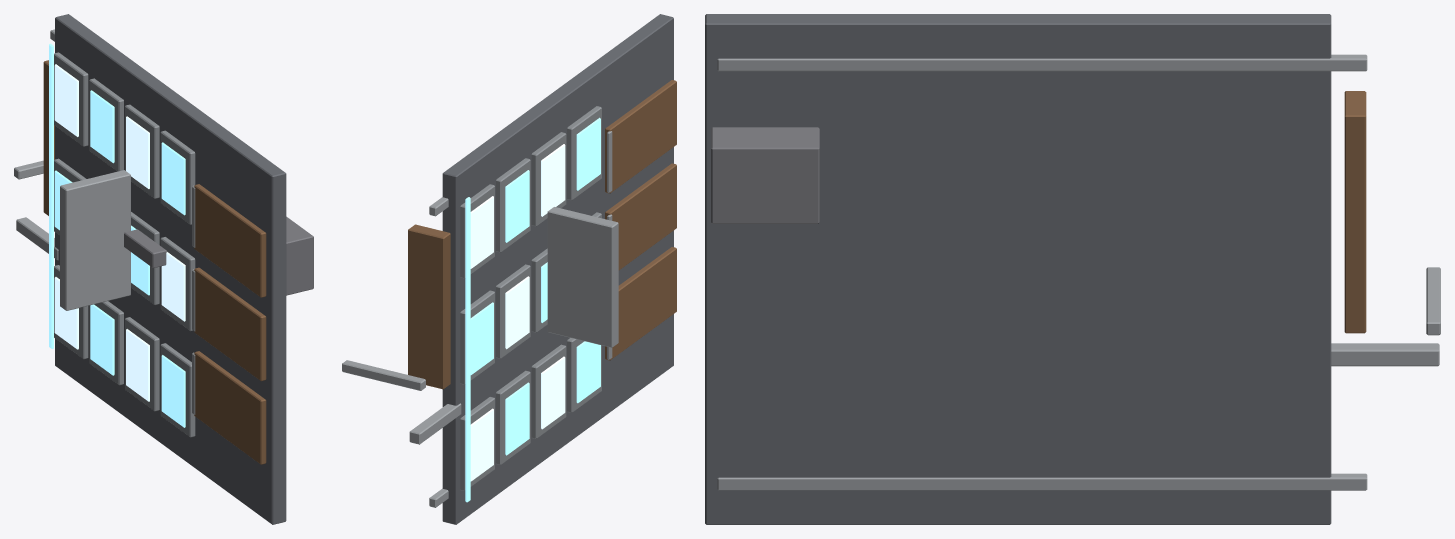
The model's file is facade_yard_r.glb.
The picture shows the model from 3 angles, left to right: view 1: azimuth 30°, elevation 25°; view 2: azimuth 150°, elevation 25°; view 3: azimuth 270°, elevation 25°; orthographic projection. The views are drawn at different scales.
Parts seen in each view (by area): view 1: FacadeYard_R; view 2: FacadeYard_R; view 3: FacadeYard_R.
Part boxes in pixels (x1,y1,x2,y2): FacadeYard_R: (14, 14, 313, 524); FacadeYard_R: (342, 14, 676, 524); FacadeYard_R: (705, 14, 1440, 524).
Bounding box in the file's own units: 2.1 × 4.6 × 6.11.
